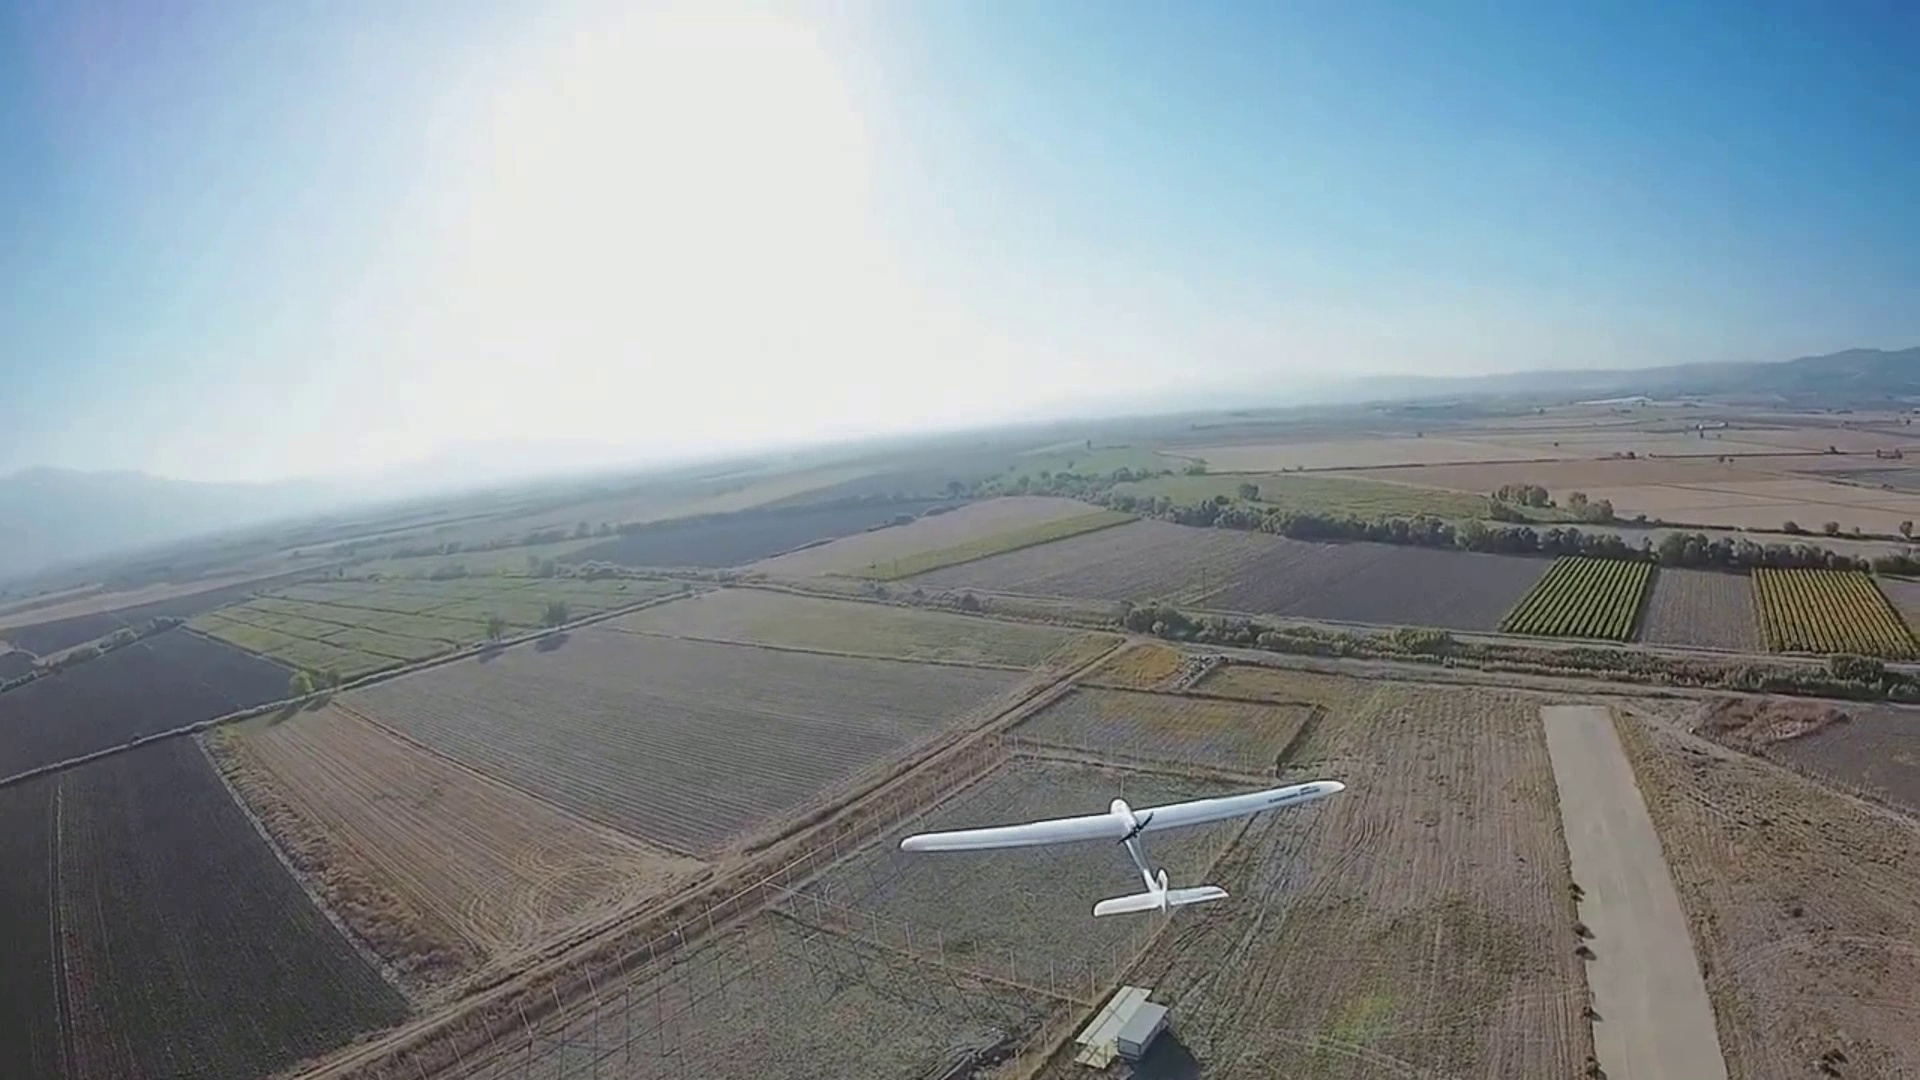airplane: (895, 778, 1345, 1064)
